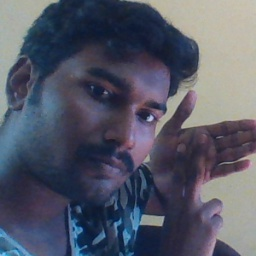N: (144, 91, 256, 238)
